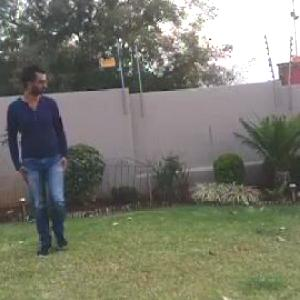follow: (12, 60, 72, 257)
